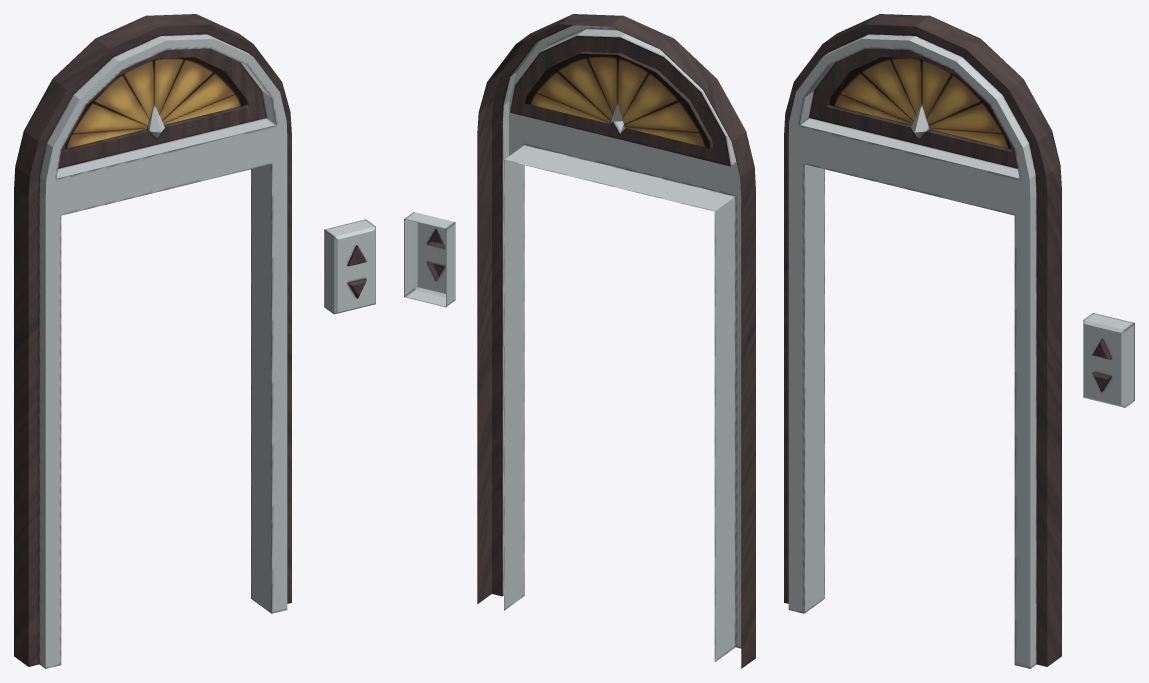
Rendered from elevator_frame.fbx.
The picture shows the model from 3 angles, left to right: view 1: azimuth 30°, elevation 25°; view 2: azimuth 150°, elevation 25°; view 3: azimuth 330°, elevation 25°; orthographic projection.
Visible parts, largest first — view 1: elevator_frame_buttons; view 2: elevator_frame_buttons; view 3: elevator_frame_buttons.
Part boxes in pixels (x1,y1,x2,y2): elevator_frame_buttons: (14,14,375,668); elevator_frame_buttons: (404,14,755,668); elevator_frame_buttons: (784,14,1134,668).
Bounding box in the file's own units: 134 × 227 × 14.55.
